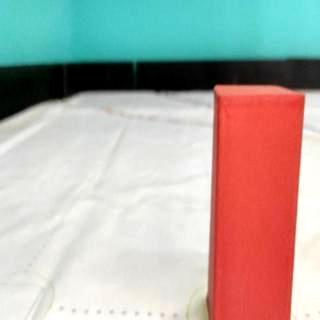redbox: (208, 83, 305, 320)
